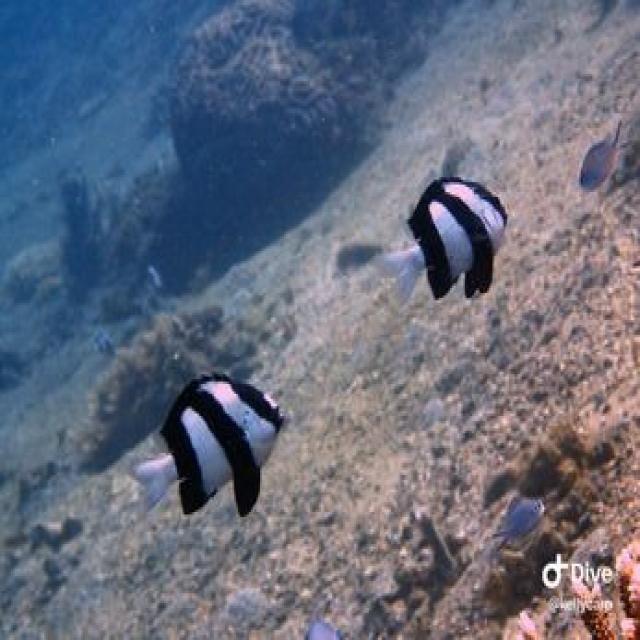Three_striped DasmselFish: (136, 373, 283, 520), (382, 177, 508, 304)
